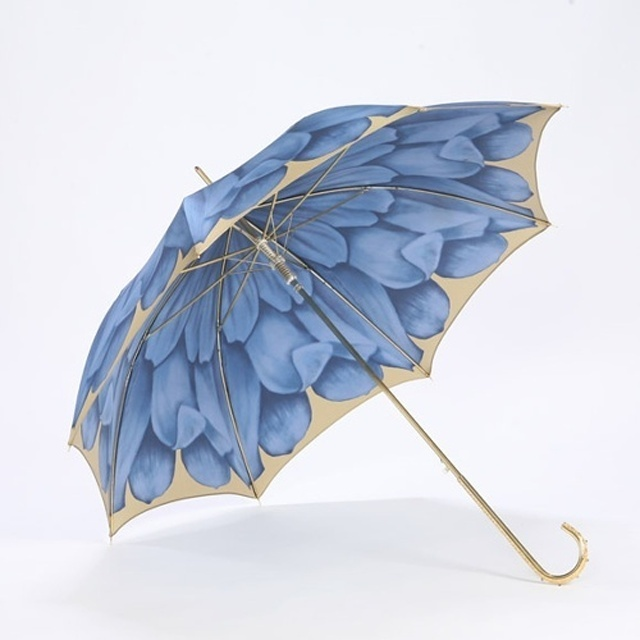umbrella: (66, 95, 593, 590)
